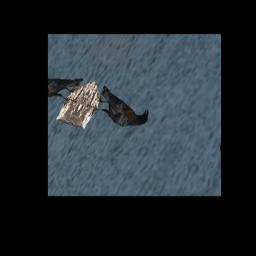Crow: (86, 85, 157, 133)
